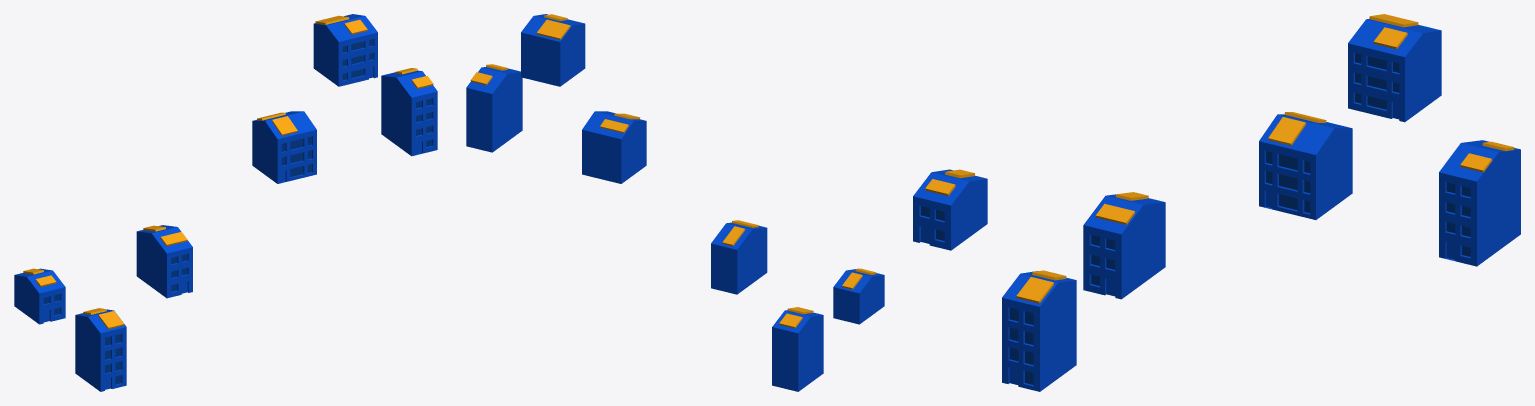
The model's file is BinaGrup8.gltf.
The picture shows the model from 3 angles, left to right: view 1: azimuth 30°, elevation 25°; view 2: azimuth 150°, elevation 25°; view 3: azimuth 330°, elevation 25°; orthographic projection. The views are drawn at different scales.
Visible parts, largest first — view 1: Building_067.003, Building_059.003, Building_053.003, Building_034.003, Building_040.003, Building_026.003, Building_053.005, Building_059.005, Building_034.005; view 2: Building_067.003, Building_053.003, Building_059.003, Building_034.003, Building_040.003, Building_026.003, Building_059_RoofCap_1.001; view 3: Building_067.003, Building_059.003, Building_053.003, Building_034.003, Building_040.003, Building_026.003, Building_053.005, Building_059.005, Building_034.005, Building_053_RoofCap_0.001, Building_067.005, Building_034_RoofCap_0.001 (+1 smaller).
Part boxes in pixels (x1=…): Building_067.003: x1=381, y1=70, x2=437, y2=156; Building_059.003: x1=313, y1=14, x2=377, y2=86; Building_053.003: x1=252, y1=111, x2=316, y2=183; Building_034.003: x1=75, y1=309, x2=126, y2=391; Building_040.003: x1=136, y1=225, x2=192, y2=298; Building_026.003: x1=14, y1=268, x2=65, y2=324; Building_053.005: x1=281, y1=136, x2=311, y2=177; Building_059.005: x1=342, y1=39, x2=373, y2=80; Building_034.005: x1=105, y1=334, x2=121, y2=384; Building_067.003: x1=466, y1=67, x2=522, y2=152; Building_053.003: x1=582, y1=111, x2=646, y2=183; Building_059.003: x1=521, y1=14, x2=585, y2=86; Building_034.003: x1=772, y1=310, x2=823, y2=391; Building_040.003: x1=711, y1=222, x2=767, y2=294; Building_026.003: x1=833, y1=268, x2=884, y2=324; Building_059_RoofCap_1.001: x1=536, y1=19, x2=570, y2=39; Building_067.003: x1=1439, y1=140, x2=1520, y2=266; Building_059.003: x1=1348, y1=19, x2=1441, y2=122; Building_053.003: x1=1259, y1=114, x2=1352, y2=219; Building_034.003: x1=1002, y1=271, x2=1076, y2=391; Building_040.003: x1=1083, y1=194, x2=1165, y2=299; Building_026.003: x1=913, y1=169, x2=987, y2=250; Building_053.005: x1=1266, y1=151, x2=1310, y2=213; Building_059.005: x1=1355, y1=53, x2=1399, y2=109; Building_034.005: x1=1009, y1=307, x2=1033, y2=384; Building_053_RoofCap_0.001: x1=1268, y1=117, x2=1306, y2=145; Building_067.005: x1=1446, y1=182, x2=1470, y2=256; Building_034_RoofCap_0.001: x1=1016, y1=277, x2=1053, y2=303.
Size of the model in its own units: 0.4891 by 0.3568 by 0.0652.
